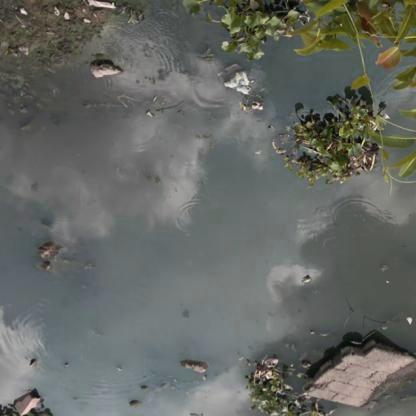Trash: (223, 68, 255, 99)
